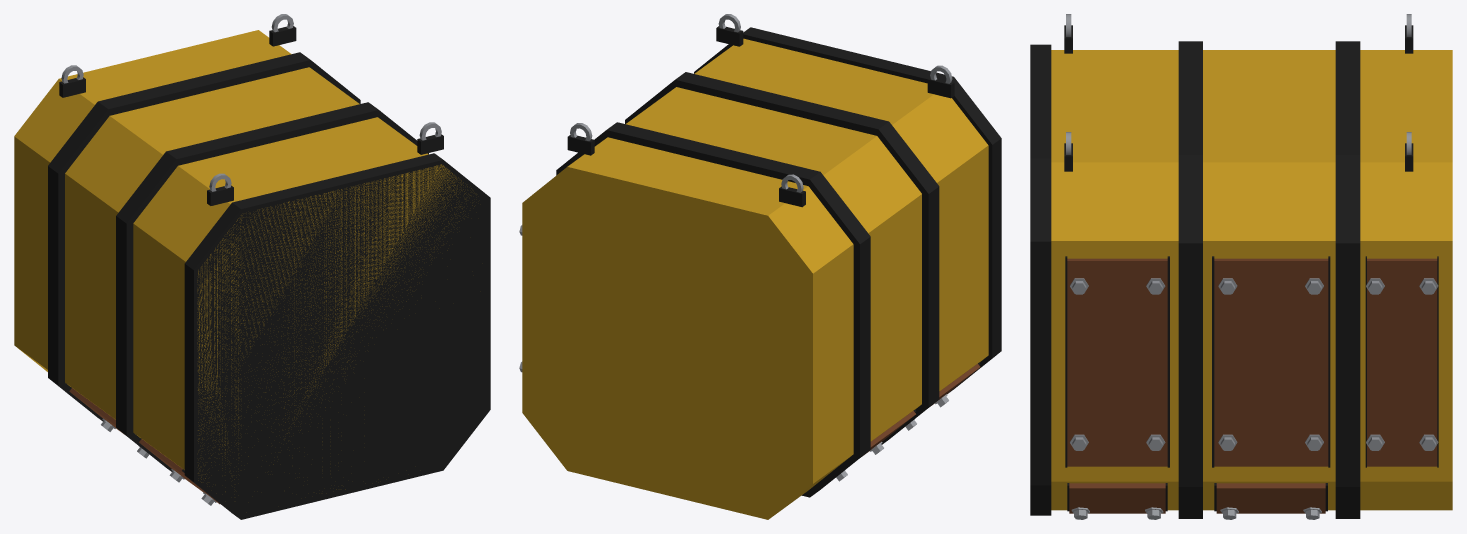
Rendered from kt1_housing.obj.
3 views of the same model, side by side, from view 1: azimuth 30°, elevation 25°; view 2: azimuth 150°, elevation 25°; view 3: azimuth 270°, elevation 25° (orthographic). The views are drawn at different scales.
Visible parts, largest first — view 1: kt1_housing; view 2: kt1_housing; view 3: kt1_housing.
Boxes of the visible parts, left/top/right/bottom form: kt1_housing: left=14, top=14, right=490, bottom=519; kt1_housing: left=519, top=14, right=1001, bottom=519; kt1_housing: left=1030, top=14, right=1452, bottom=519.
Bounding box in the file's own units: 2.33 × 2.45 × 2.42.
